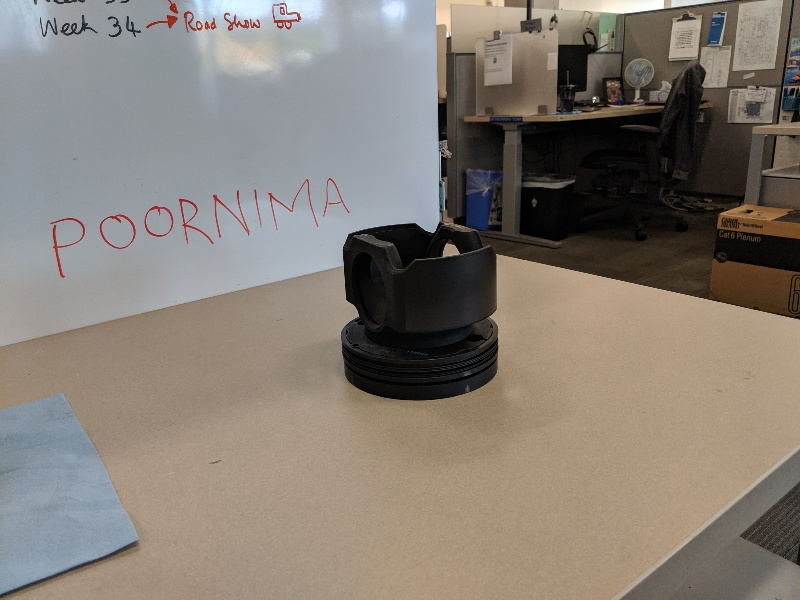piston: (332, 216, 509, 410)
